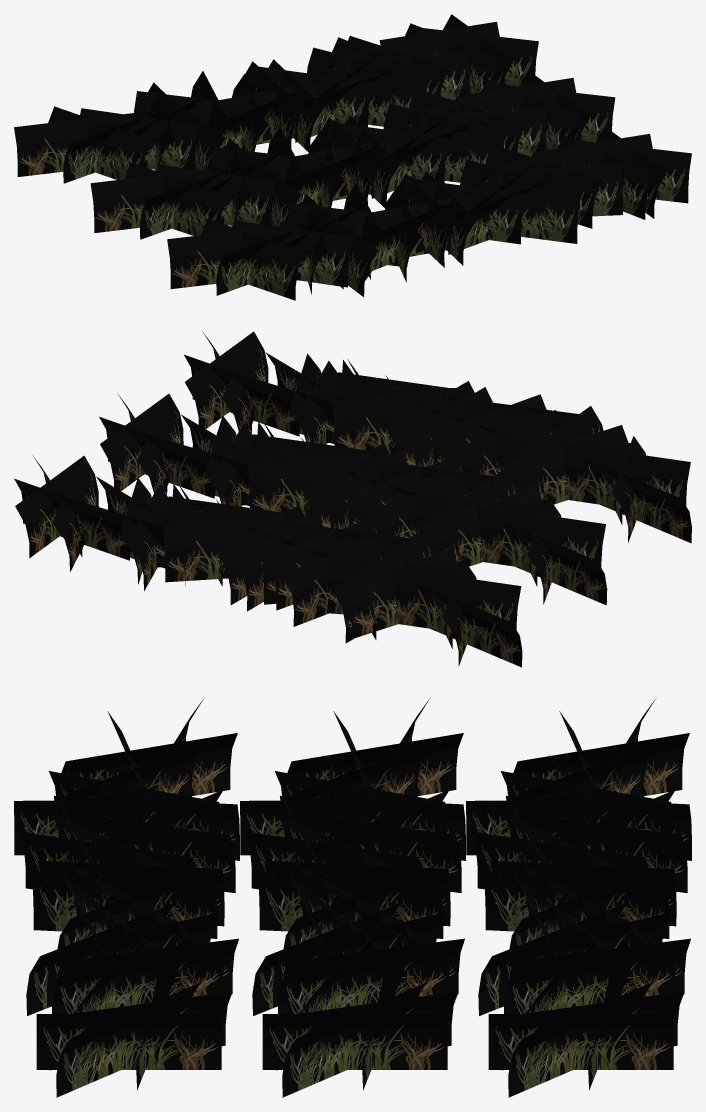
File: grass2.obj
3 renders of one model, top to bottom at view 1: azimuth 30°, elevation 25°; view 2: azimuth 150°, elevation 25°; view 3: azimuth 270°, elevation 25°, orthographic. The views are drawn at different scales.
Visible parts, largest first — view 1: grass2; view 2: grass2; view 3: grass2.
Part boxes in pixels (x1,y1,x2,y2): grass2: (14,14,691,300); grass2: (14,331,691,667); grass2: (14,699,691,1097).
Bounding box in the file's own units: 0.4933 × 0.0489 × 0.4069.
